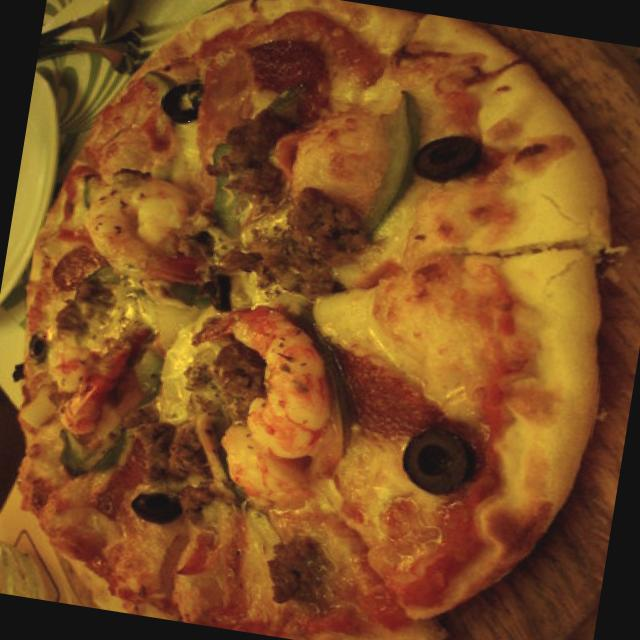Bell Pepper: (40, 342, 169, 492), (335, 86, 432, 249), (188, 145, 258, 246)
Olive: (378, 408, 492, 508), (398, 124, 484, 194), (191, 262, 257, 326), (109, 486, 190, 534), (158, 77, 218, 138), (17, 316, 68, 366)
pizza: (18, 0, 611, 640)
